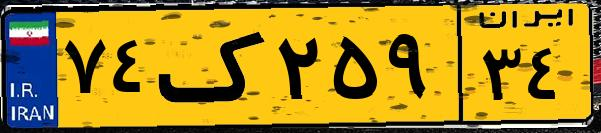2: (270, 28, 330, 110)
3: (475, 38, 525, 113)
4: (525, 38, 570, 115), (110, 28, 158, 98)
5: (330, 28, 385, 110)
7: (57, 26, 110, 100)
9: (385, 28, 445, 110)
ک: (158, 12, 270, 120)
